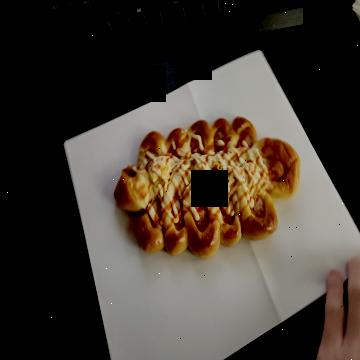pizza_bread: (113, 116, 300, 260)
